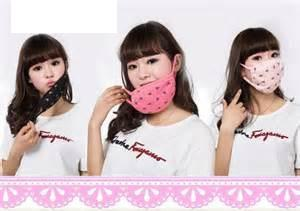OK: (247, 51, 287, 94)
WRONG: (127, 55, 174, 103), (30, 55, 69, 101)
